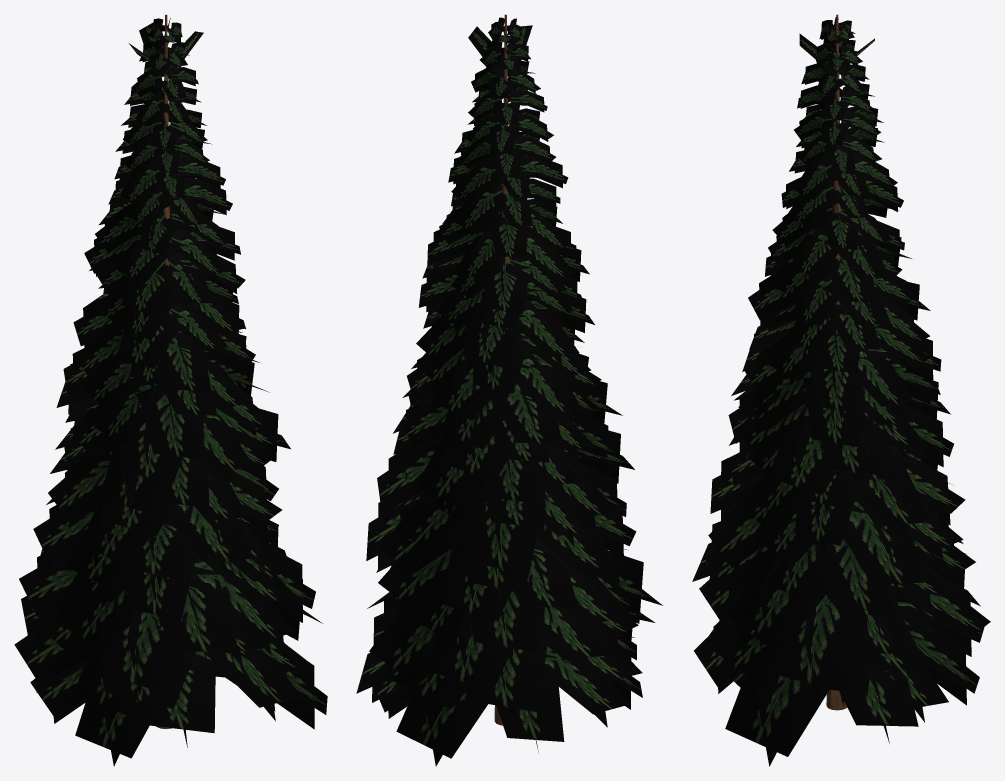
Rendered from arbre_epicea_lod0.glb.
The picture shows the model from 3 angles, left to right: view 1: azimuth 30°, elevation 25°; view 2: azimuth 150°, elevation 25°; view 3: azimuth 270°, elevation 25°; orthographic projection. The views are drawn at different scales.
Visible parts, largest first — view 1: arbre; view 2: arbre; view 3: arbre.
Boxes of the visible parts, x1=… form: arbre: x1=14, y1=14, x2=327, y2=766; arbre: x1=356, y1=14, x2=662, y2=766; arbre: x1=692, y1=14, x2=990, y2=766.
Size of the model in its own units: 8.86 by 22.53 by 8.73.
Materials: 2 (2 with a texture image).
